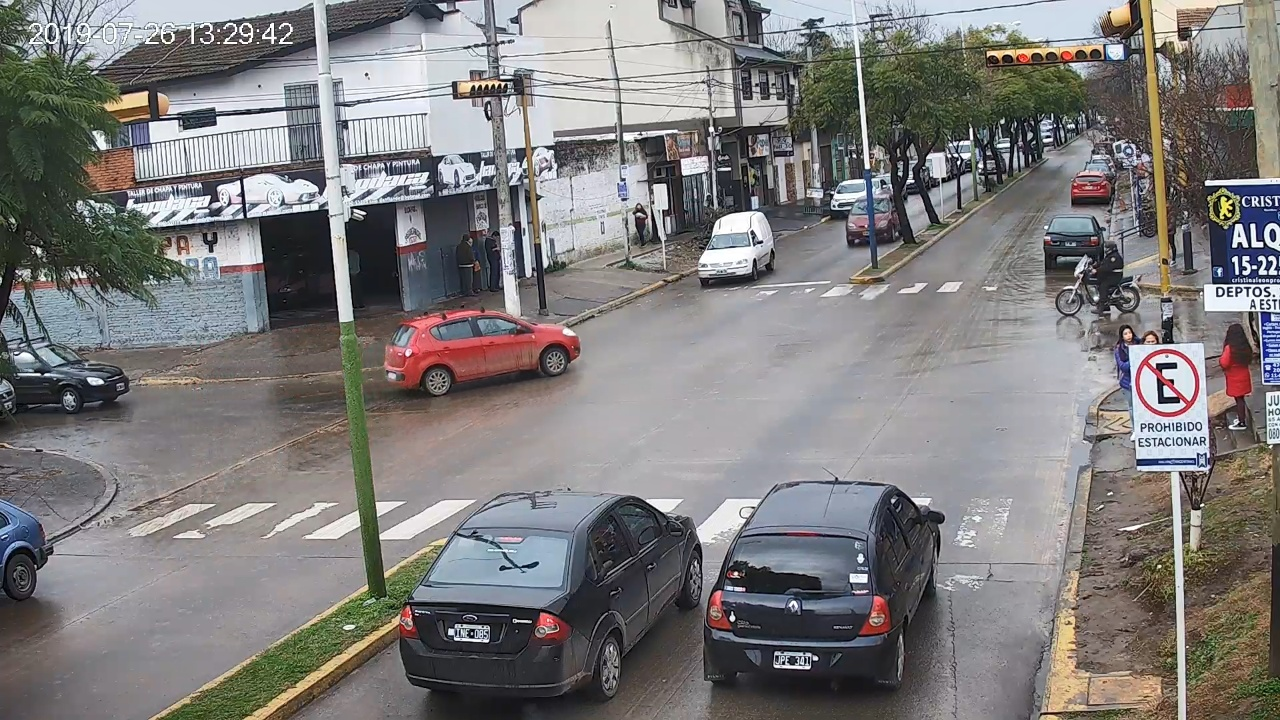car: (397, 489, 703, 720), (706, 480, 946, 700)
front car: (698, 211, 776, 285)
traffic light: (1016, 47, 1102, 63)
